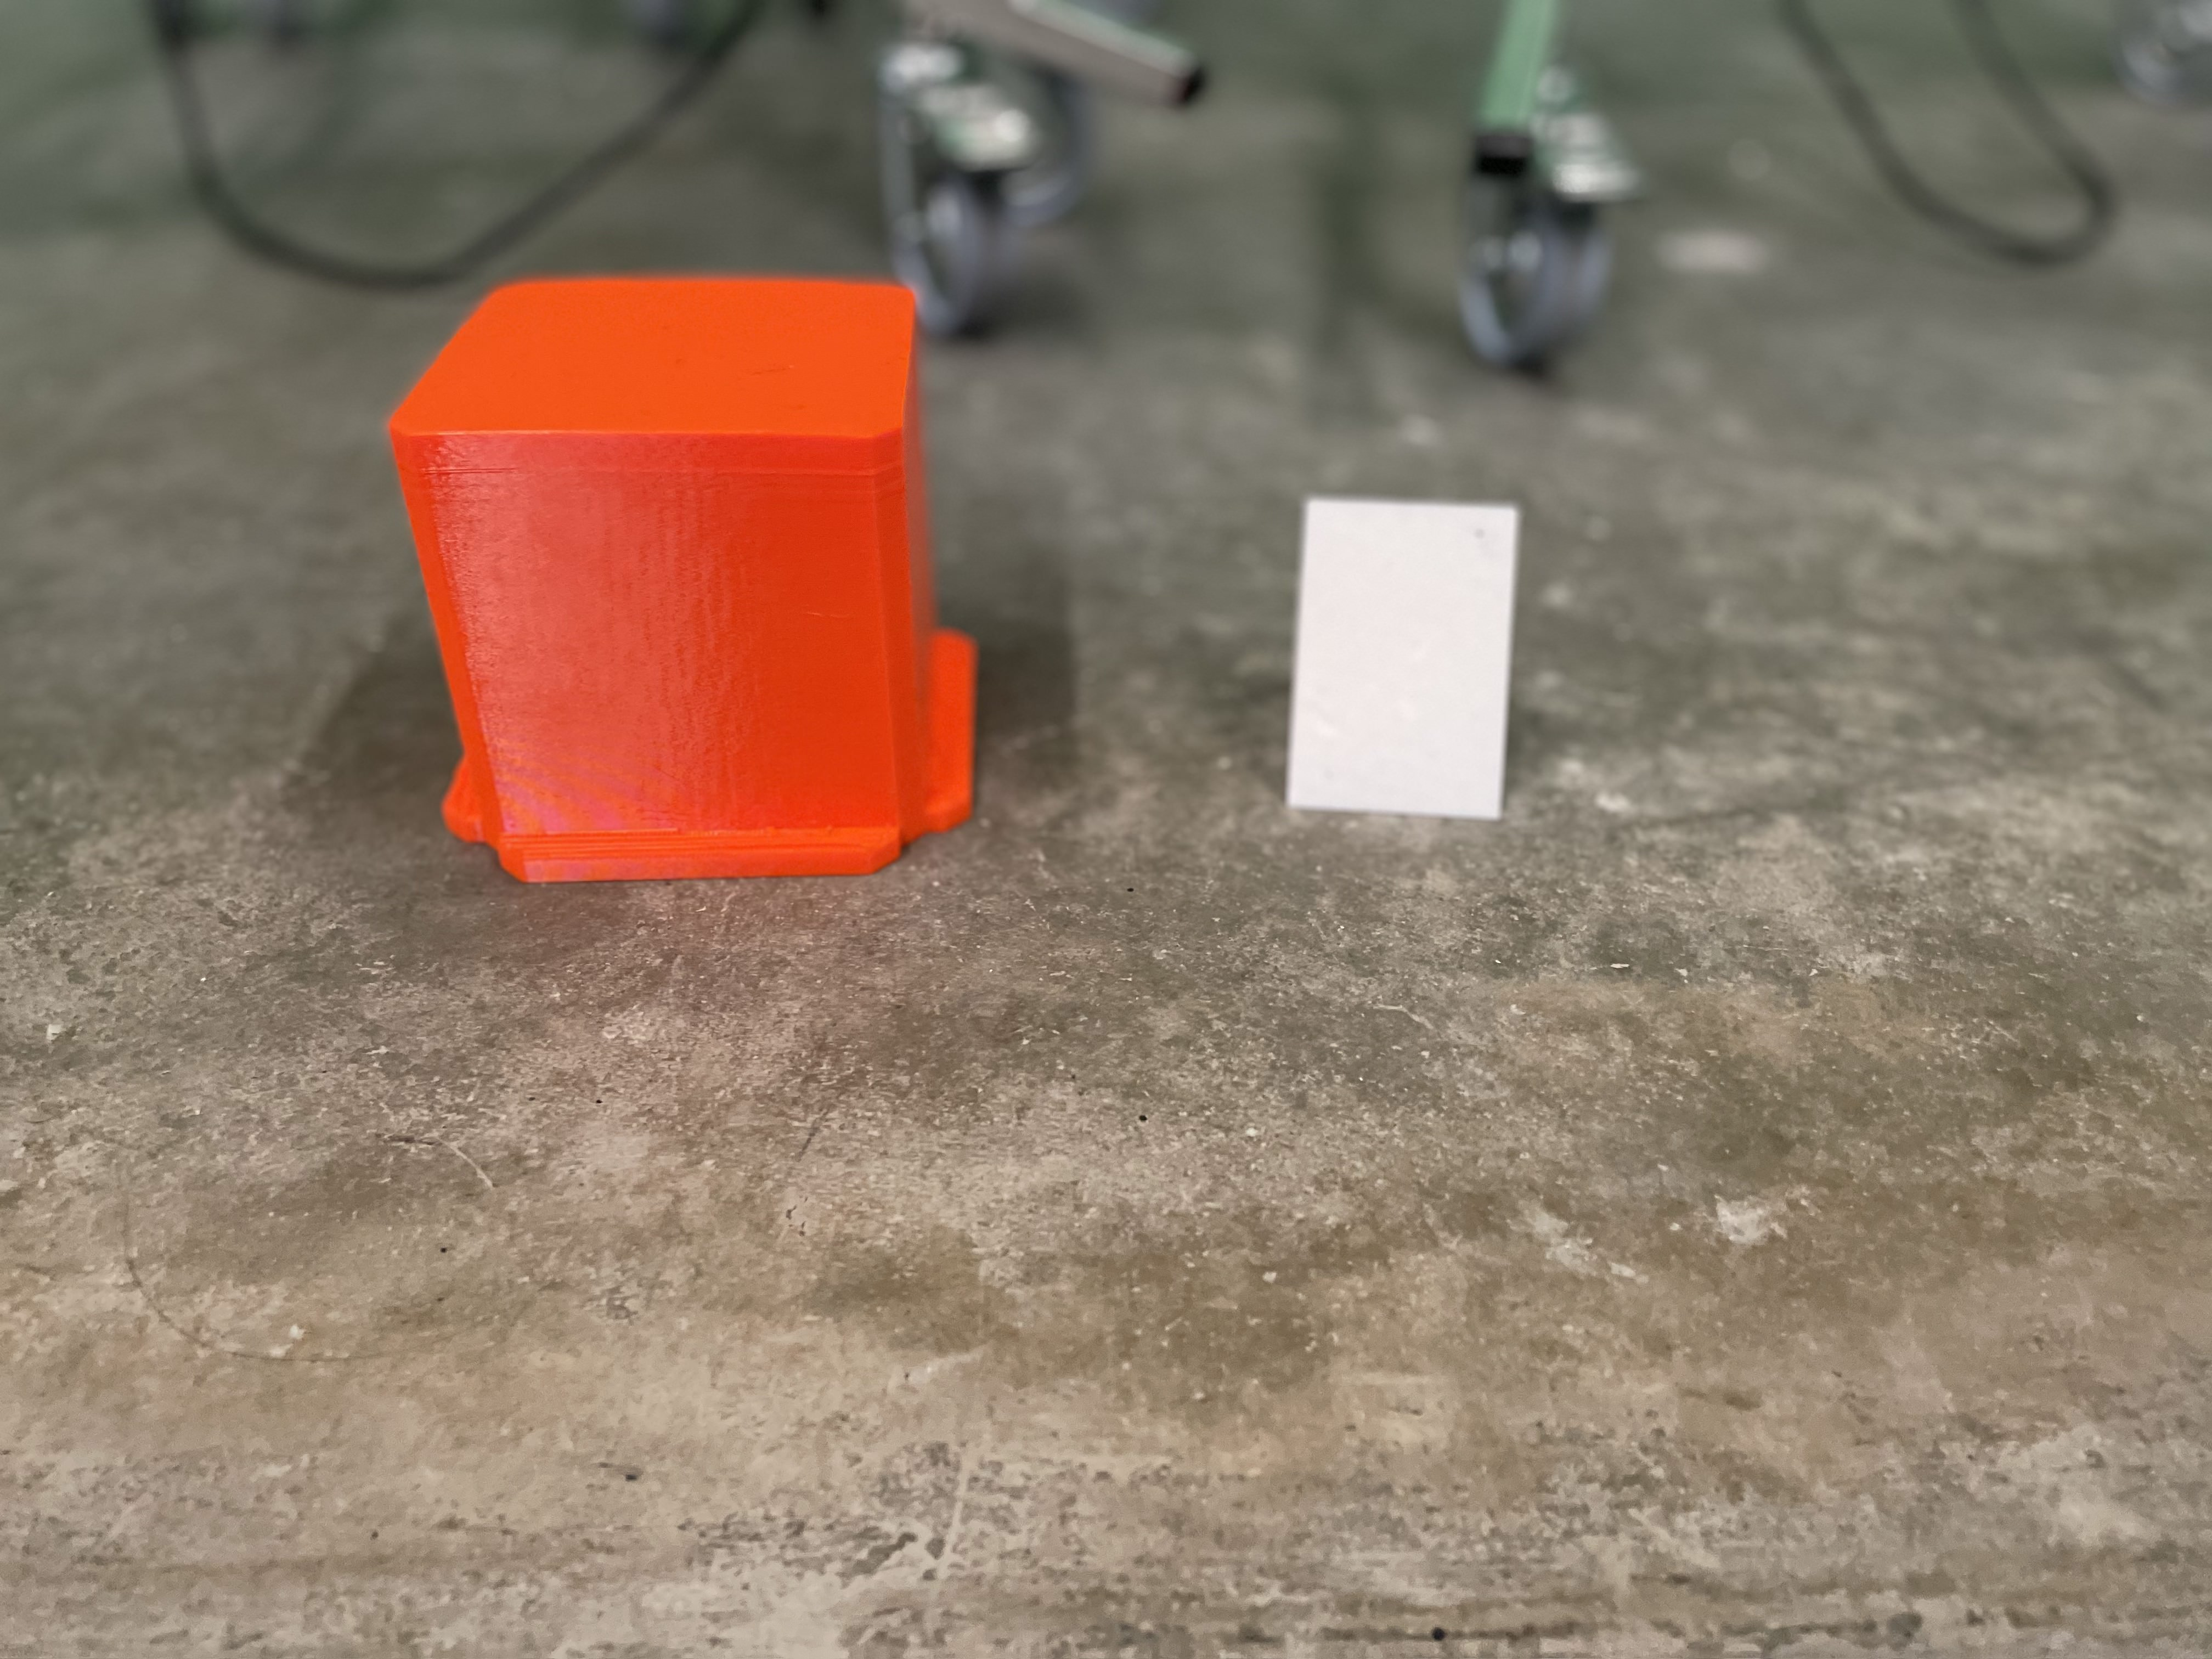payload1: (357, 253, 1035, 913)
payload2: (1266, 474, 1568, 849)
